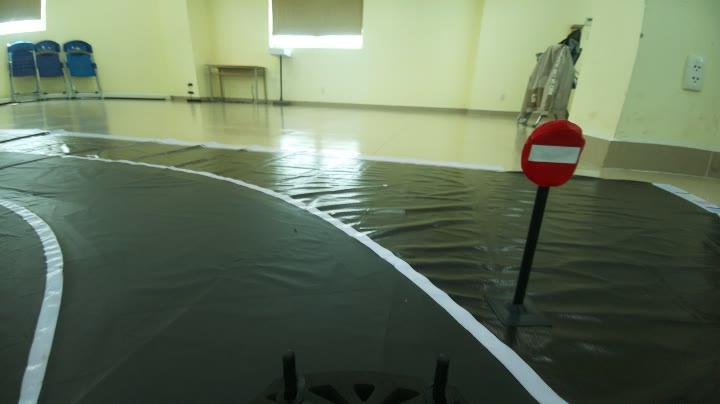no_entry: (518, 119, 582, 188)
